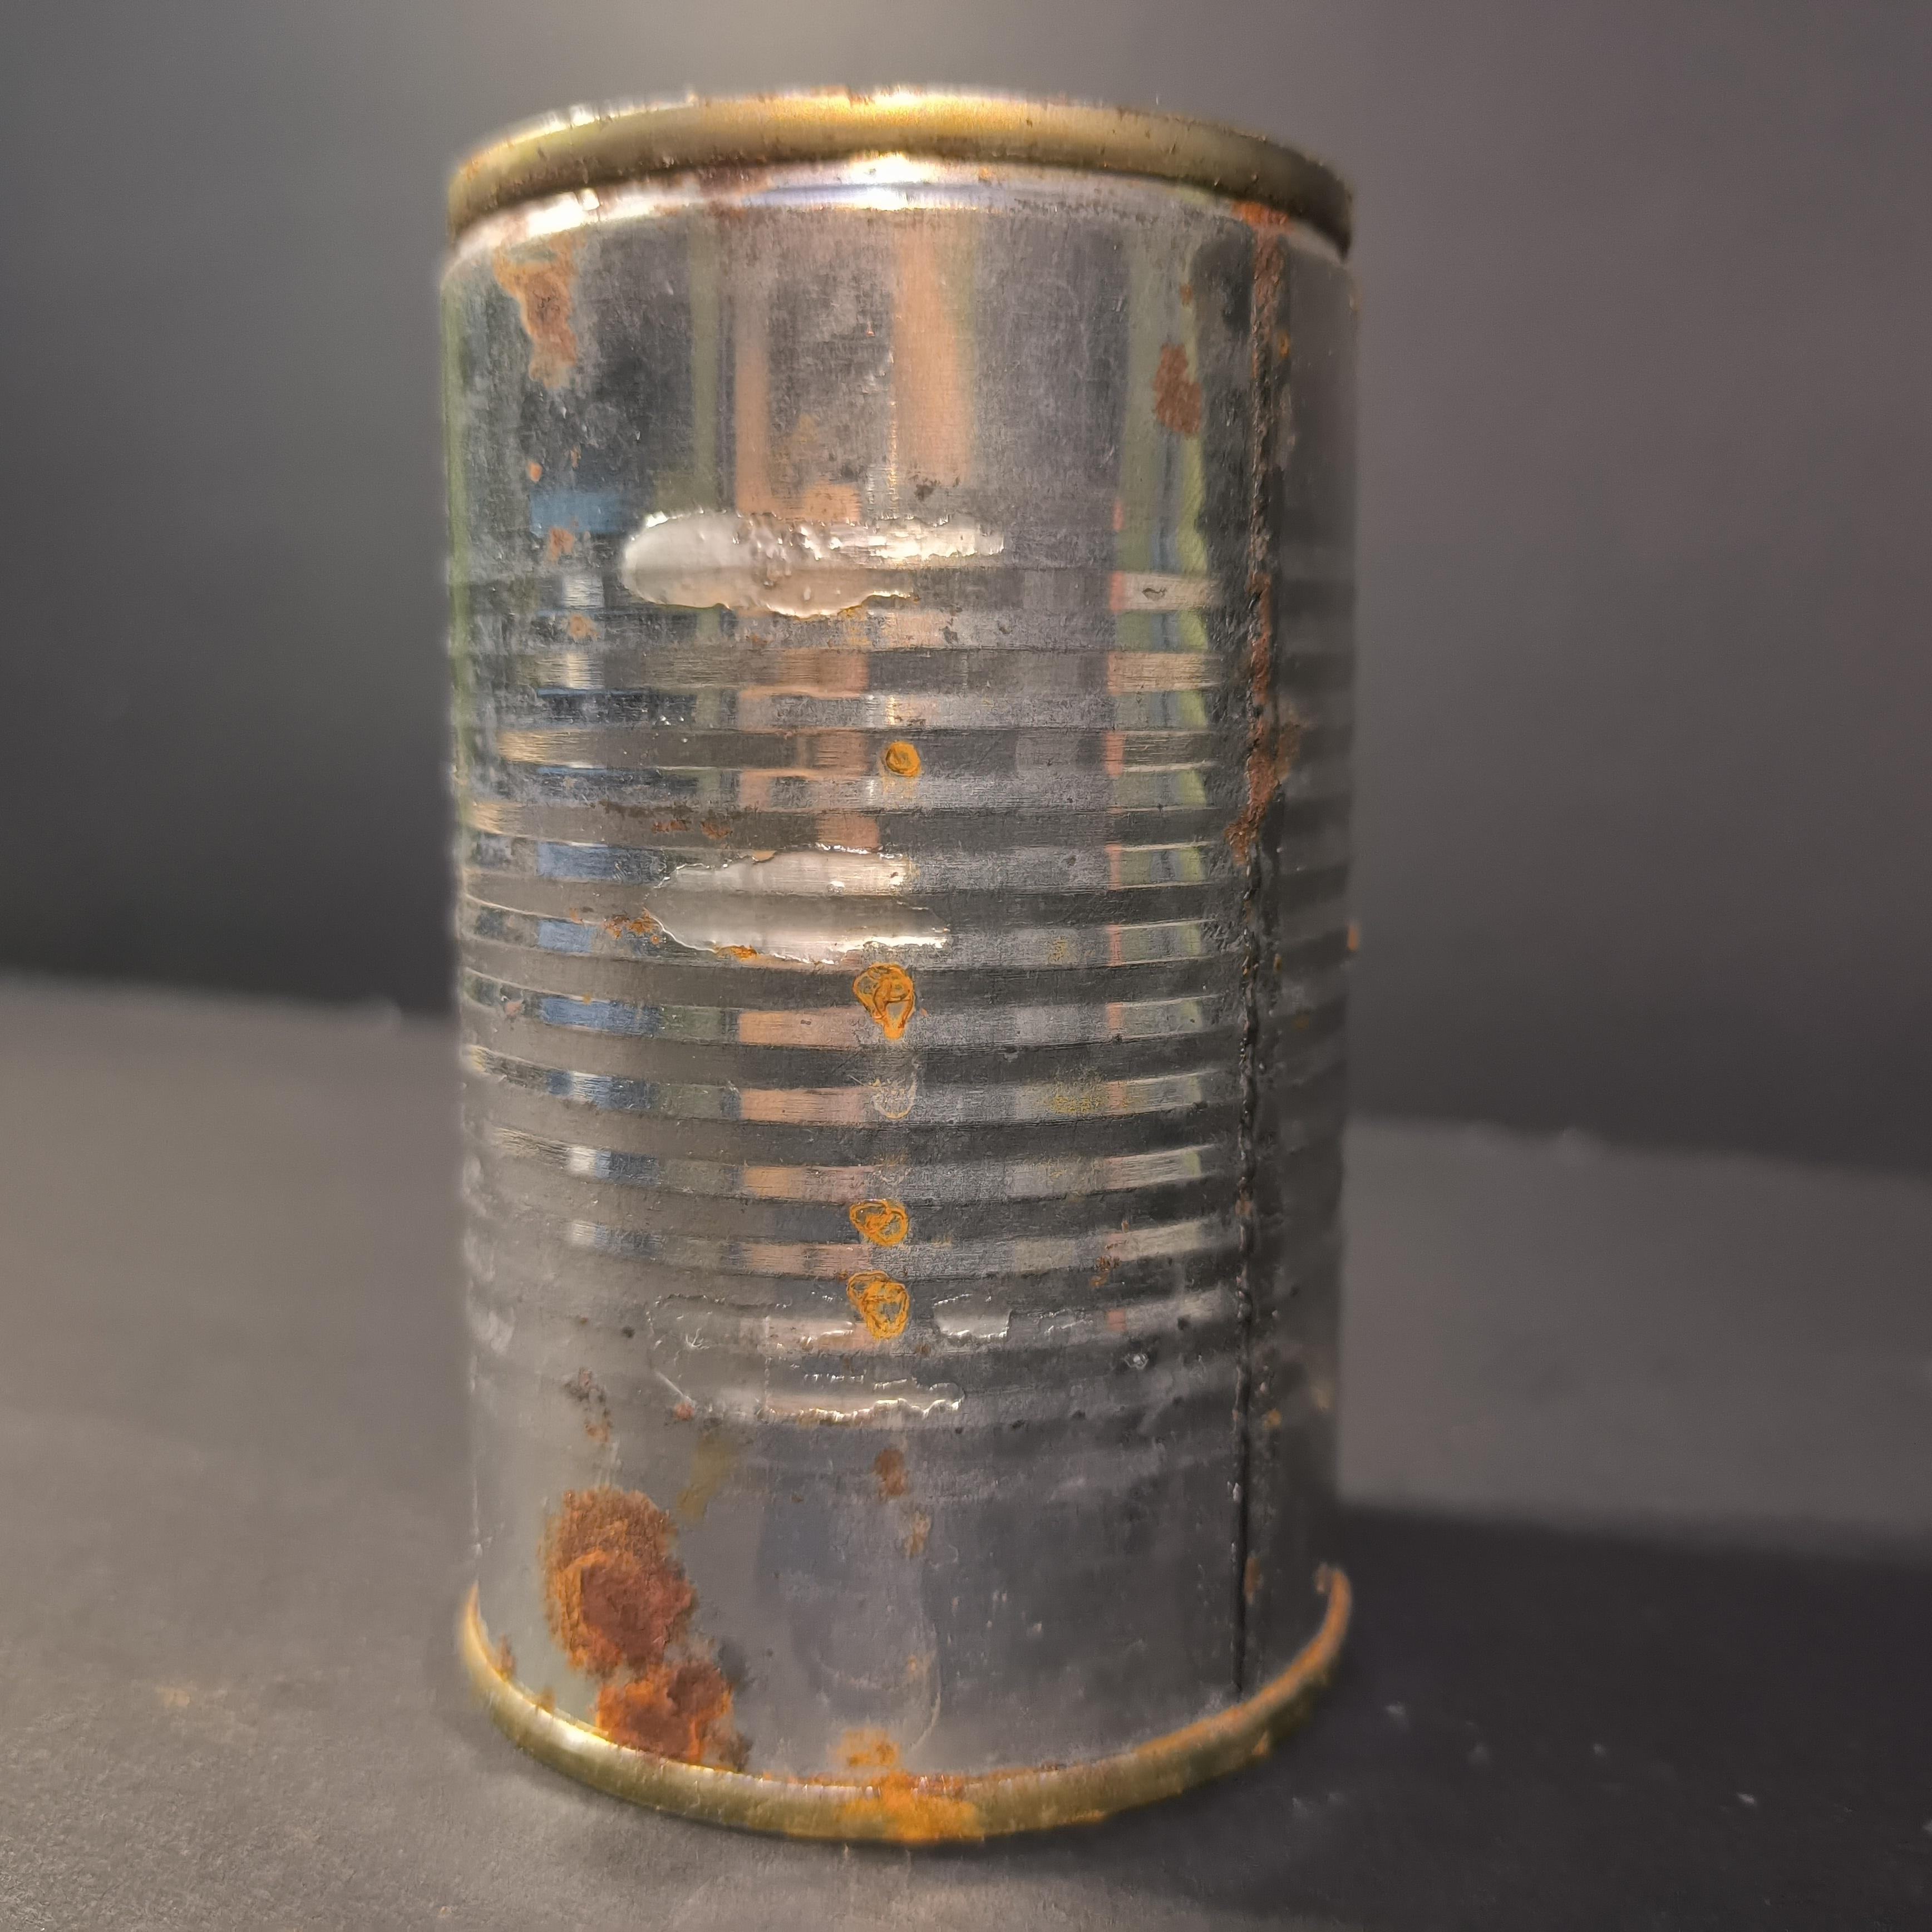Rusted: (400, 55, 1385, 1865)
